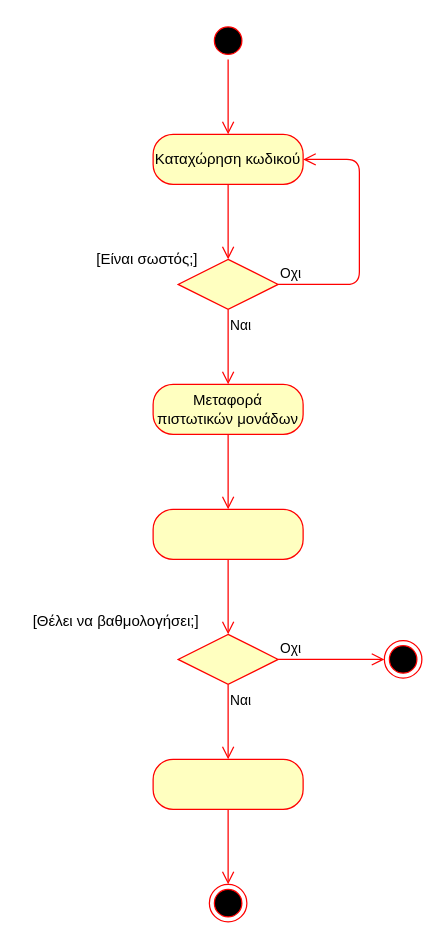
The diagram is 444 pixels wide and 944 high, and some of its shapes have lost their labels. Here are the shapes that lost their labels. From the top down, the centre of each, then its label:
At (227,533): "Αφαίρεση θέσης απο εφαρμογή".
At (227,783): "Βαθμολόγηση".
